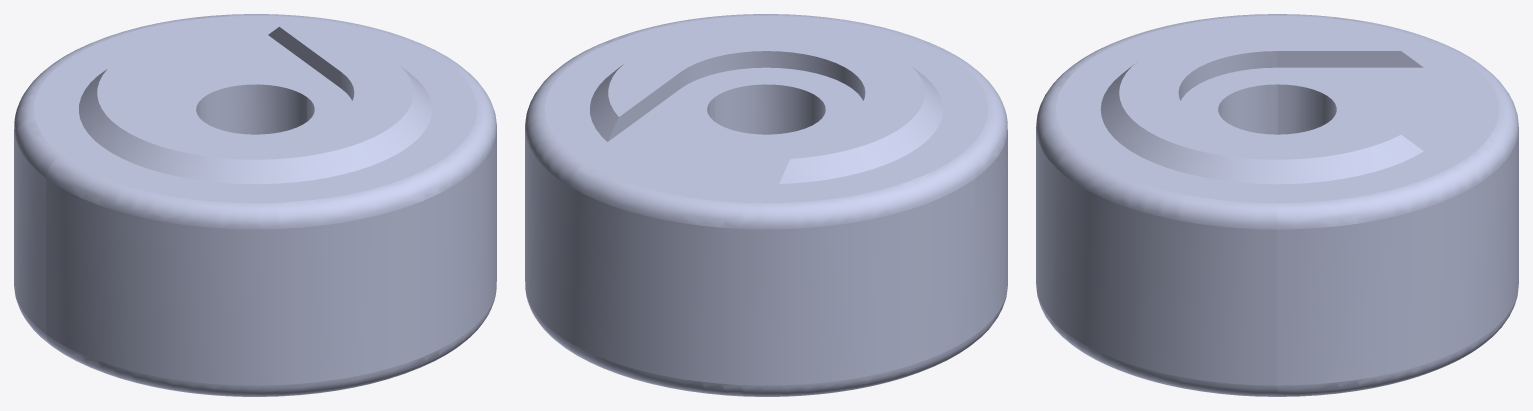
Rendered from Rubber Shaft Collar v1 (228-2500-168).glb.
3 renders of one model, left to right at view 1: azimuth 30°, elevation 25°; view 2: azimuth 150°, elevation 25°; view 3: azimuth 270°, elevation 25°, orthographic.
Parts seen in each view (by area): view 1: Rubber Shaft Collar v1 (228-2500-168); view 2: Rubber Shaft Collar v1 (228-2500-168); view 3: Rubber Shaft Collar v1 (228-2500-168).
Boxes of the visible parts, left/top/right/bottom form: Rubber Shaft Collar v1 (228-2500-168): left=14, top=14, right=496, bottom=396; Rubber Shaft Collar v1 (228-2500-168): left=525, top=14, right=1007, bottom=396; Rubber Shaft Collar v1 (228-2500-168): left=1036, top=14, right=1518, bottom=396.
Size of the model in its own units: 0.4803 by 0.2472 by 0.4803.
